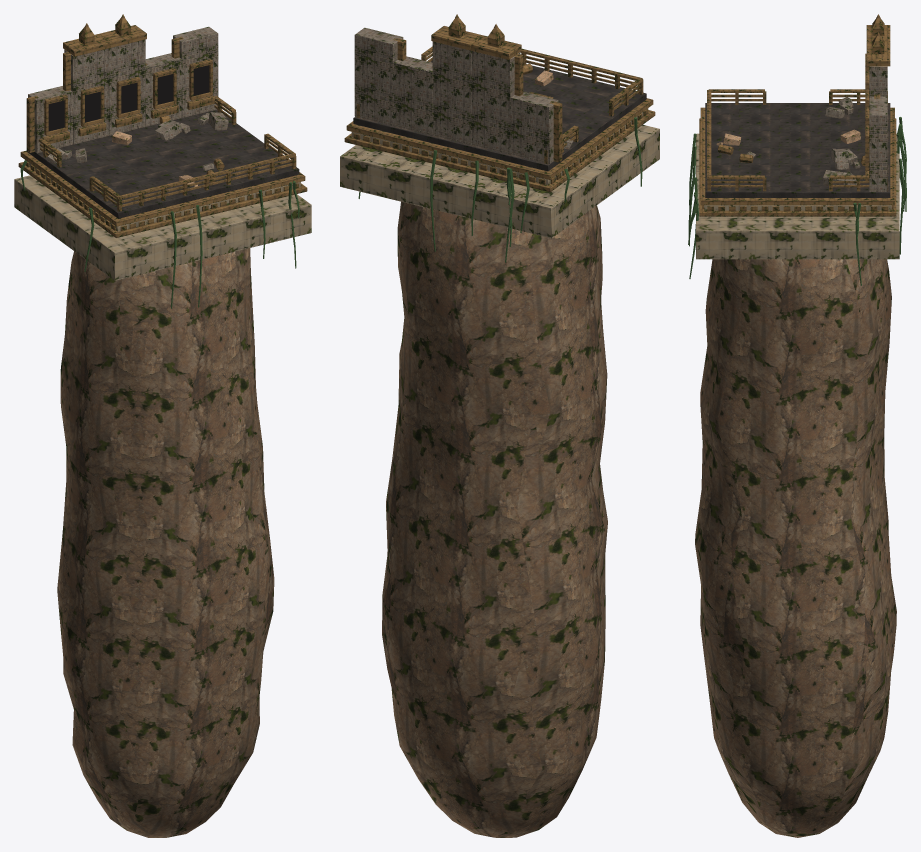
Rendered from Room_Treasure.fbx.
3 views of the same model, side by side, from view 1: azimuth 30°, elevation 25°; view 2: azimuth 150°, elevation 25°; view 3: azimuth 270°, elevation 25° (orthographic). The views are drawn at different scales.
Parts seen in each view (by area): view 1: Treasure_Rock_LOD0, Treasure_Structure_LOD0; view 2: Treasure_Rock_LOD0, Treasure_Structure_LOD0; view 3: Treasure_Rock_LOD0, Treasure_Structure_LOD0.
Part boxes in pixels (bbox=[...]): Treasure_Rock_LOD0: bbox=[57, 248, 274, 837]; Treasure_Structure_LOD0: bbox=[14, 14, 311, 308]; Treasure_Rock_LOD0: bbox=[382, 201, 607, 837]; Treasure_Structure_LOD0: bbox=[340, 14, 659, 262]; Treasure_Rock_LOD0: bbox=[695, 259, 896, 837]; Treasure_Structure_LOD0: bbox=[688, 14, 906, 285].
Size of what is drawn, in the model's own units: 18.53 by 66.64 by 16.55.
